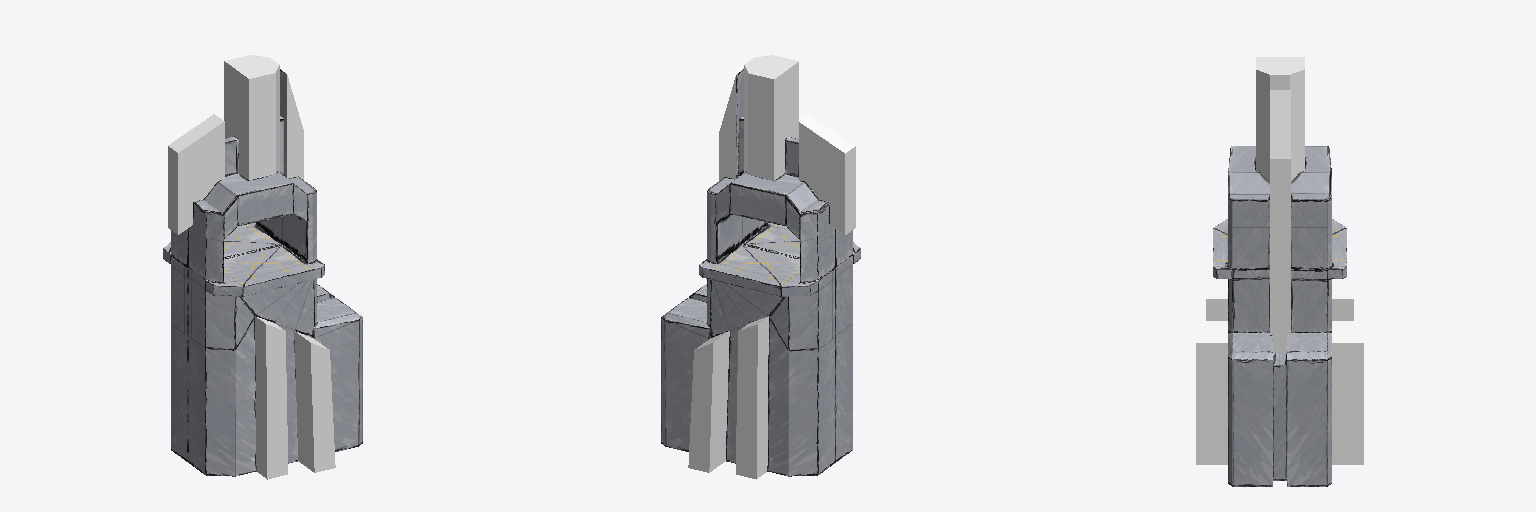
3 views of the same model, side by side, from view 1: azimuth 30°, elevation 25°; view 2: azimuth 150°, elevation 25°; view 3: azimuth 270°, elevation 25° (orthographic).
Visible parts, largest first — view 1: Cube; view 2: Cube; view 3: Cube.
Boxes of the visible parts, x1=… form: Cube: x1=163, y1=55, x2=362, y2=479; Cube: x1=661, y1=55, x2=860, y2=479; Cube: x1=1196, y1=57, x2=1363, y2=486.
Bounding box in the file's own units: 3.27 × 7.18 × 2.89.
4 materials, 1 textured.